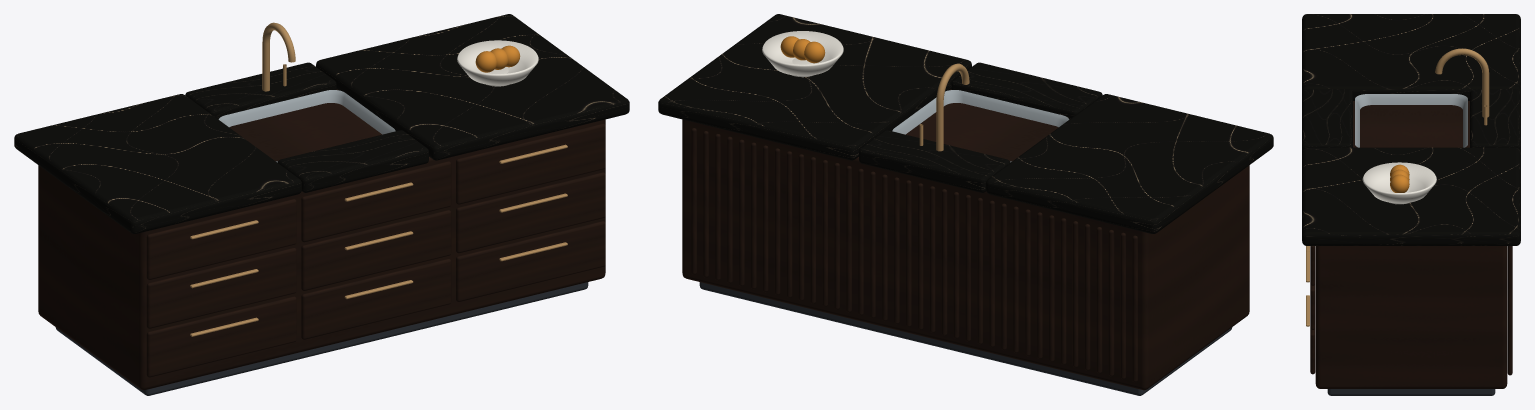
The model's file is marble-island.glb.
3 views of the same model, side by side, from view 1: azimuth 30°, elevation 25°; view 2: azimuth 150°, elevation 25°; view 3: azimuth 270°, elevation 25° (orthographic). The views are drawn at different scales.
Parts seen in each view (by area): view 1: Island cabinet carcass, Marble counter right, Marble counter left, Island drawer front, Island drawer front.005, Island drawer front.002, Island drawer front.001, Island drawer front.004, Island drawer front.003, Island drawer front.007, Island drawer front.006, Island drawer front.008 (+6 smaller); view 2: Island cabinet carcass, Marble counter left, Marble counter right, Marble sink surround, Marble sink surround.001, Island floating plinth, Inset rounded stainless sink bowl, Shallow serving bowl, Reeded walnut back.002, Reeded walnut back.003, Reeded walnut back.004, Reeded walnut back.029 (+35 smaller); view 3: Island cabinet carcass, Marble counter right, Marble counter left, Marble sink surround.001, Marble sink surround, Shallow serving bowl, Inset rounded stainless sink bowl, Island floating plinth, Gooseneck faucet, Reeded walnut back.037, Citrus fruit.002, Island drawer front.006 (+2 smaller).
Part boxes in pixels (<box>): Island cabinet carcass: <box>38,89,605,390</box>; Marble counter right: <box>316,14,629,160</box>; Marble counter left: <box>14,94,301,233</box>; Island drawer front: <box>146,296,296,377</box>; Island drawer front.005: <box>301,161,451,242</box>; Island drawer front.002: <box>146,199,296,279</box>; Island drawer front.001: <box>146,247,296,328</box>; Island drawer front.004: <box>301,210,451,290</box>; Island drawer front.003: <box>301,258,451,339</box>; Island drawer front.007: <box>456,172,605,253</box>; Island drawer front.006: <box>456,221,605,301</box>; Island drawer front.008: <box>456,123,605,204</box>; Island cabinet carcass: <box>682,89,1249,390</box>; Marble counter left: <box>986,94,1273,233</box>; Marble counter right: <box>658,14,971,160</box>; Marble sink surround: <box>859,130,1009,192</box>; Marble sink surround.001: <box>951,62,1102,119</box>; Island floating plinth: <box>699,282,1232,395</box>; Inset rounded stainless sink bowl: <box>892,90,1069,162</box>; Shallow serving bowl: <box>762,31,843,75</box>; Reeded walnut back.002: <box>1108,229,1114,376</box>; Reeded walnut back.003: <box>1096,227,1102,373</box>; Reeded walnut back.004: <box>1084,224,1090,370</box>; Reeded walnut back.029: <box>786,151,792,297</box>; Island cabinet carcass: <box>1315,101,1507,388</box>; Marble counter right: <box>1302,147,1520,245</box>; Marble counter left: <box>1302,14,1520,100</box>; Marble sink surround.001: <box>1302,89,1352,151</box>; Marble sink surround: <box>1470,89,1520,151</box>; Shallow serving bowl: <box>1362,162,1436,203</box>; Inset rounded stainless sink bowl: <box>1355,94,1467,147</box>; Island floating plinth: <box>1327,389,1495,395</box>; Gooseneck faucet: <box>1435,48,1489,117</box>; Reeded walnut back.037: <box>1507,246,1512,375</box>; Citrus fruit.002: <box>1390,174,1409,192</box>; Island drawer front.006: <box>1310,328,1315,374</box>.
Size of the model in its own units: 2.68 by 1.38 by 1.12.
10 materials, 2 textured.
